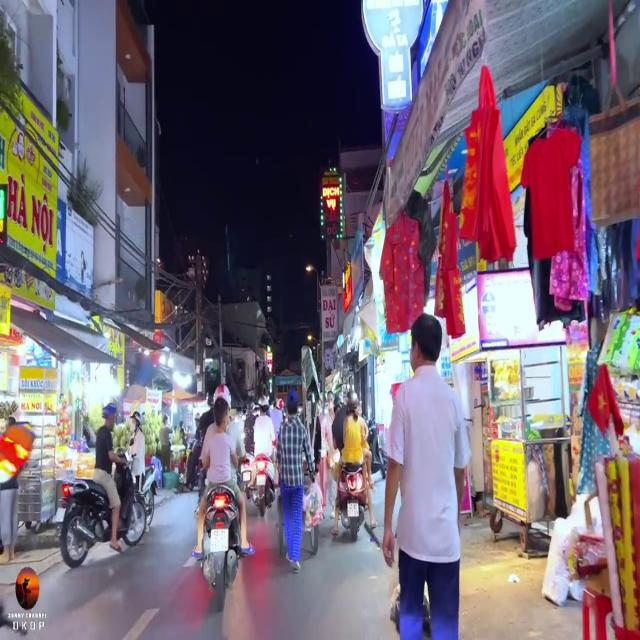bien_trang: (210, 528, 229, 550)
